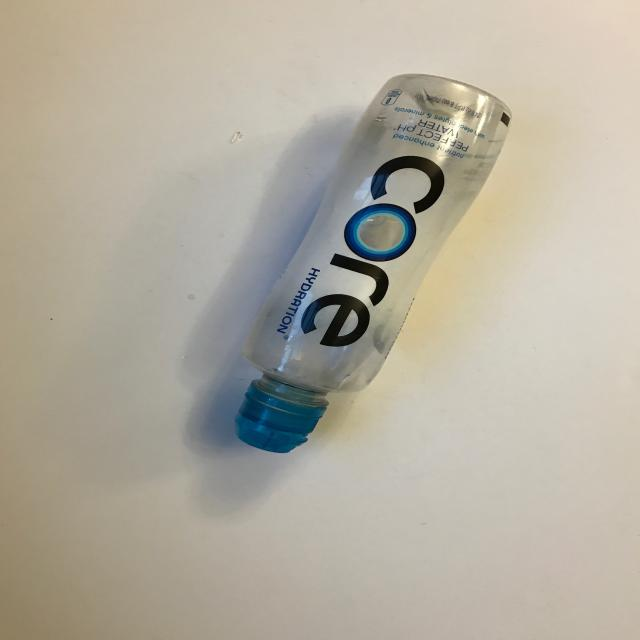plastic: (232, 72, 512, 453)
